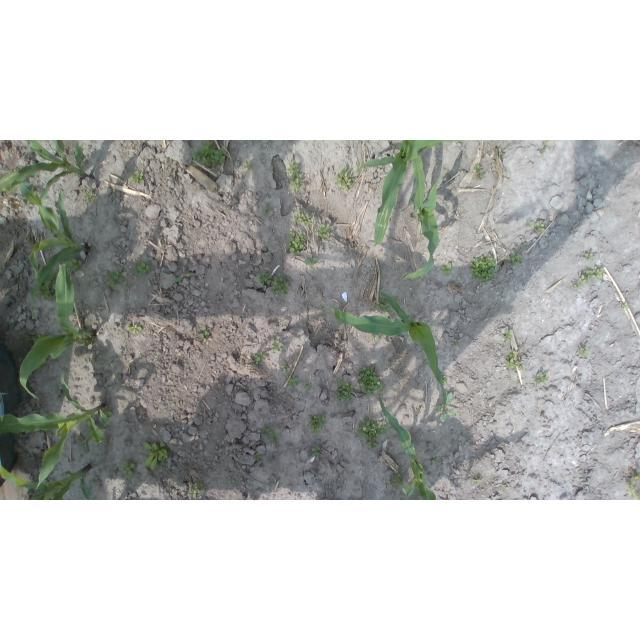Maize: (329, 292, 448, 417), (0, 372, 110, 490), (359, 141, 470, 248), (19, 263, 97, 402), (27, 192, 91, 305), (378, 395, 437, 499), (1, 141, 93, 204), (400, 177, 446, 279), (0, 460, 92, 500)
Weeds: (357, 417, 389, 449), (192, 140, 227, 168), (470, 254, 499, 284), (358, 366, 383, 398), (142, 442, 168, 471), (436, 393, 457, 423), (335, 166, 357, 191), (288, 231, 309, 256), (308, 411, 328, 437), (334, 378, 354, 402), (627, 468, 640, 500), (296, 210, 315, 229), (38, 277, 54, 299), (507, 352, 524, 371), (272, 277, 289, 295), (108, 267, 124, 285), (585, 267, 606, 280), (262, 425, 279, 441), (188, 483, 204, 500), (128, 170, 144, 186), (507, 250, 523, 266), (84, 189, 99, 206), (132, 262, 150, 276), (290, 177, 305, 193), (376, 300, 392, 315), (317, 224, 332, 239), (67, 259, 82, 273), (253, 352, 269, 365), (121, 461, 135, 475), (535, 221, 548, 236), (392, 476, 407, 489), (535, 373, 549, 386), (287, 376, 301, 389), (272, 340, 285, 353), (288, 163, 300, 177), (281, 361, 293, 375), (199, 327, 211, 341), (258, 273, 272, 285), (441, 263, 453, 277), (578, 346, 591, 358), (304, 258, 319, 268), (127, 325, 142, 334), (505, 330, 514, 342), (305, 381, 314, 392), (262, 207, 272, 216), (542, 141, 551, 151), (581, 275, 590, 285), (312, 447, 321, 457), (253, 453, 262, 463), (172, 402, 181, 412), (585, 253, 596, 261), (244, 162, 253, 171), (432, 455, 440, 465), (571, 284, 582, 291), (475, 477, 484, 485), (477, 172, 486, 180), (174, 277, 185, 283), (440, 376, 448, 384), (474, 164, 482, 172), (185, 271, 195, 276), (621, 301, 628, 308), (521, 242, 528, 248), (501, 486, 508, 492), (454, 339, 460, 345), (500, 151, 505, 157), (526, 222, 532, 227), (417, 409, 422, 414)
